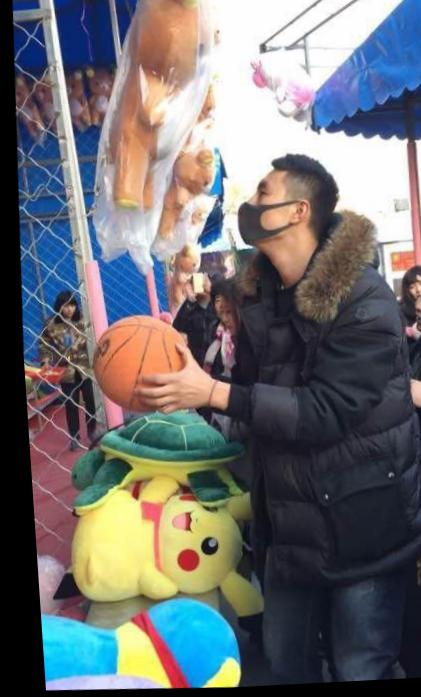NONE: (216, 305, 247, 339), (407, 291, 421, 340), (404, 283, 421, 309), (60, 304, 75, 319)
WRONG: (232, 174, 282, 250)
